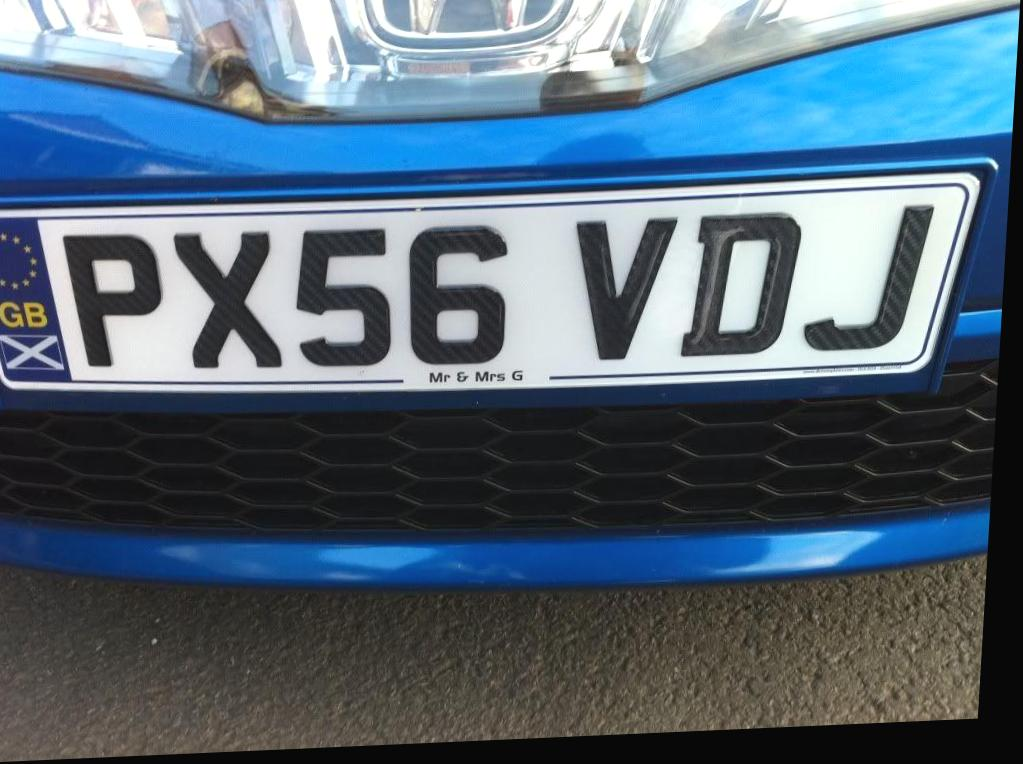License_Plate: (0, 145, 1012, 466)
